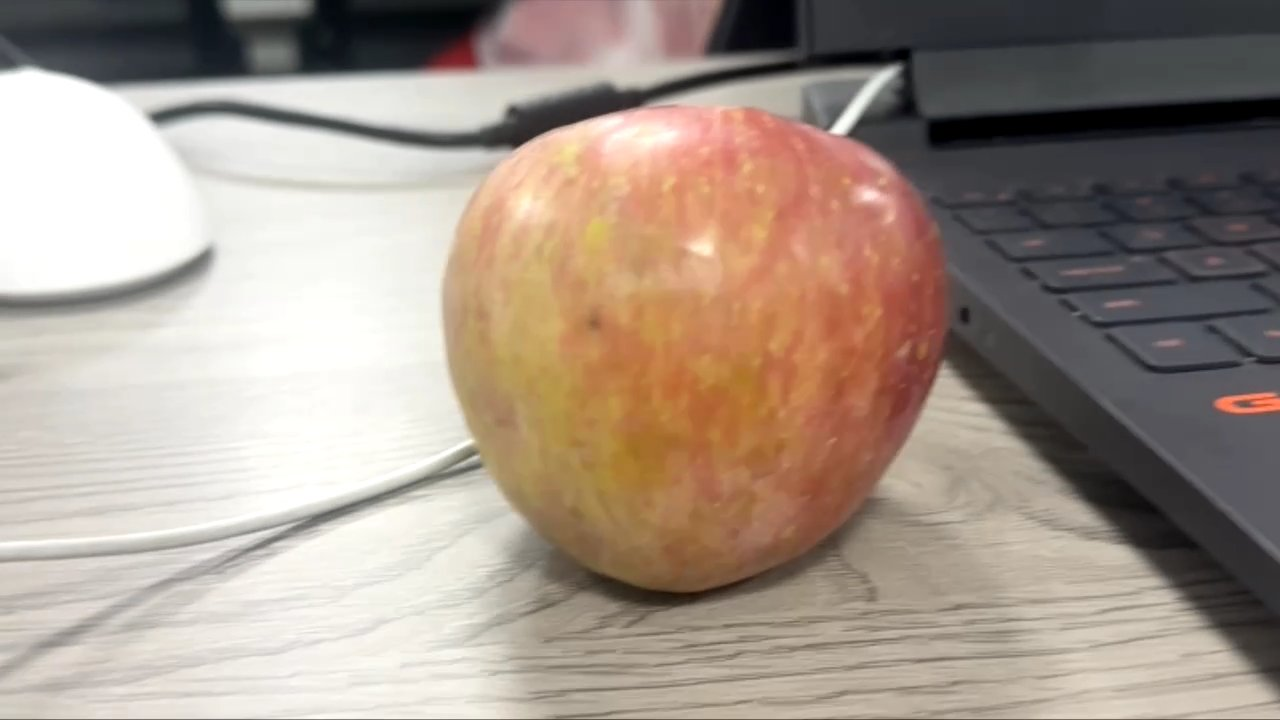apple_rotten: (431, 99, 963, 601)
